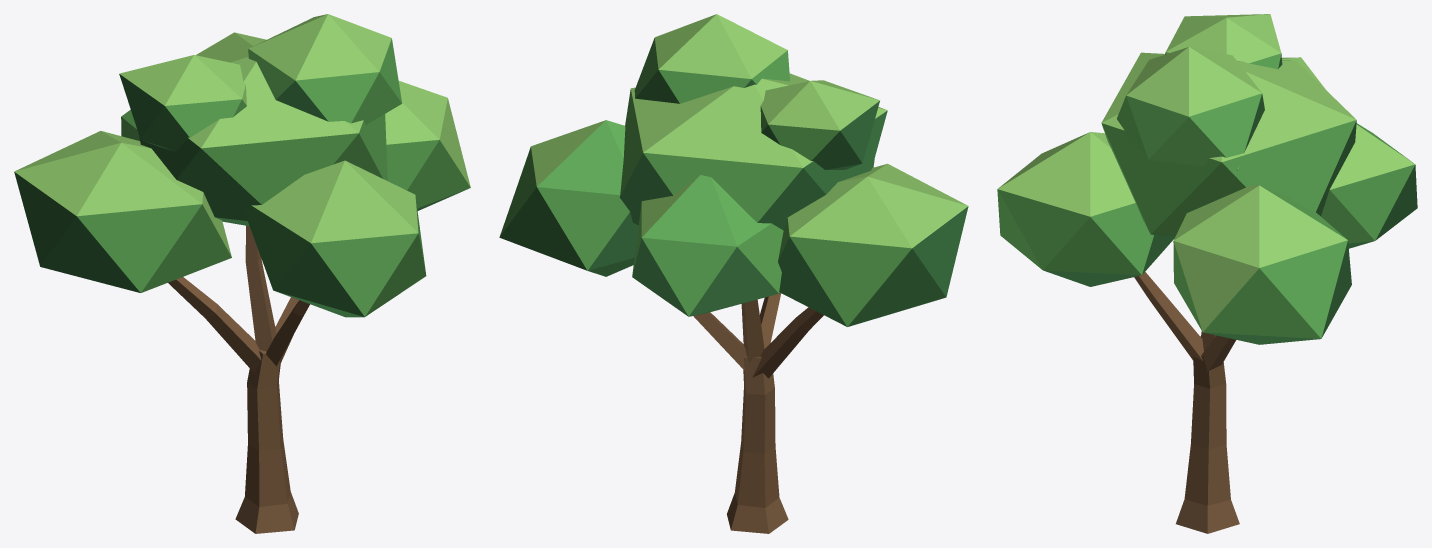
Rendered from tree_broadleaf_b_lod1.glb.
3 renders of one model, left to right at view 1: azimuth 30°, elevation 25°; view 2: azimuth 150°, elevation 25°; view 3: azimuth 270°, elevation 25°, orthographic. The views are drawn at different scales.
Parts seen in each view (by area): view 1: tree_broadleaf_b_lod1; view 2: tree_broadleaf_b_lod1; view 3: tree_broadleaf_b_lod1.
Boxes of the visible parts, x1,y1,x2,y2 form: tree_broadleaf_b_lod1: (14,14,470,533); tree_broadleaf_b_lod1: (499,14,968,533); tree_broadleaf_b_lod1: (997,14,1417,533).
Bounding box in the file's own units: 10.18 × 11.67 × 8.95.
